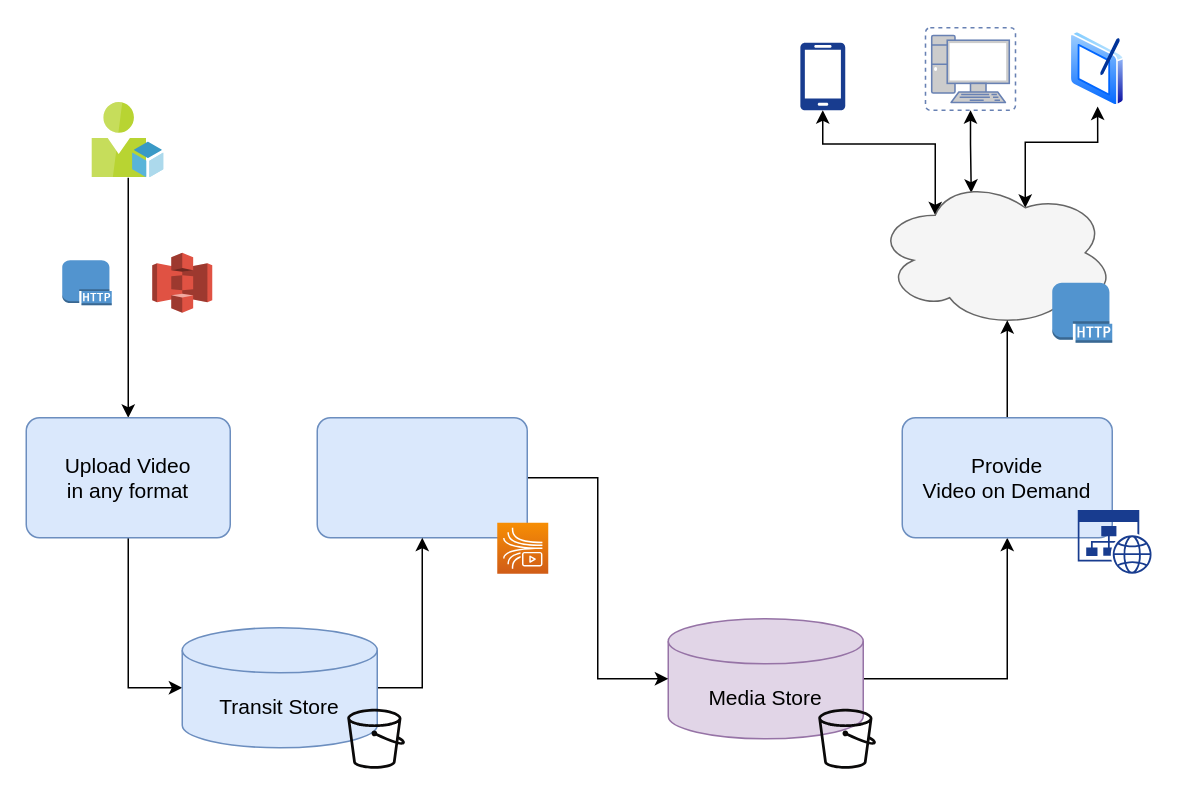
Some shapes in this 1179 by 794 pixel diagram are drawn without their labels. Each missing label, with the box of its shape:
Convert Video into compatible streaming formats (DASH): (316, 416, 527, 538)
Internet: (874, 176, 1115, 328)
